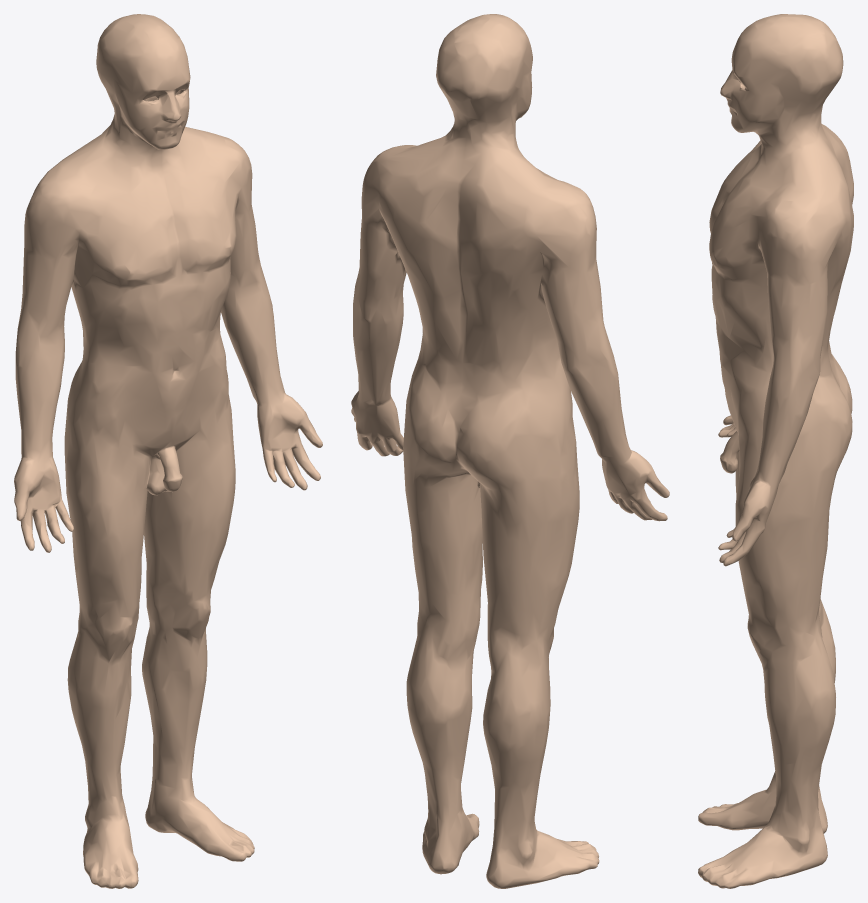
Rendered from integumentary.glb.
3 views of the same model, side by side, from view 1: azimuth 30°, elevation 25°; view 2: azimuth 150°, elevation 25°; view 3: azimuth 270°, elevation 25° (orthographic). The views are drawn at different scales.
Parts seen in each view (by area): view 1: FJ2810; view 2: FJ2810; view 3: FJ2810.
Part boxes in pixels (left/top/right/bottom): FJ2810: left=14, top=14, right=322, bottom=888; FJ2810: left=351, top=14, right=669, bottom=888; FJ2810: left=698, top=14, right=853, bottom=888.
Bounding box in the file's own units: 0.6664 × 1.72 × 0.2915.
